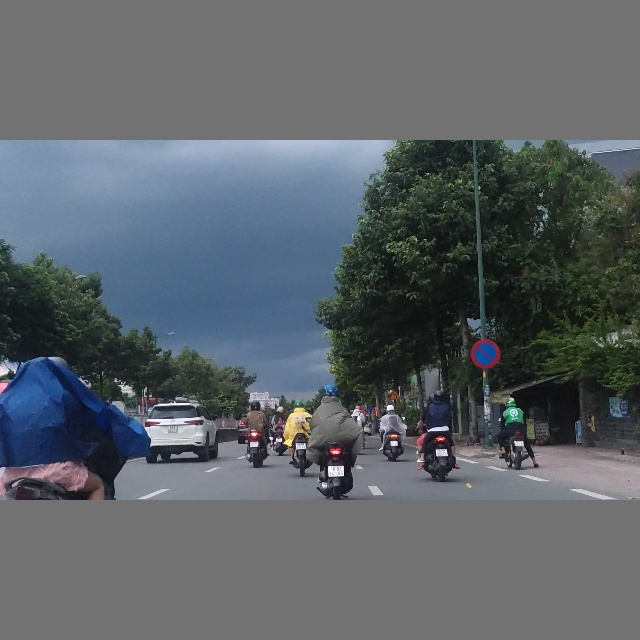P.131a: (470, 338, 500, 369)
W.201a: (390, 390, 401, 400)
